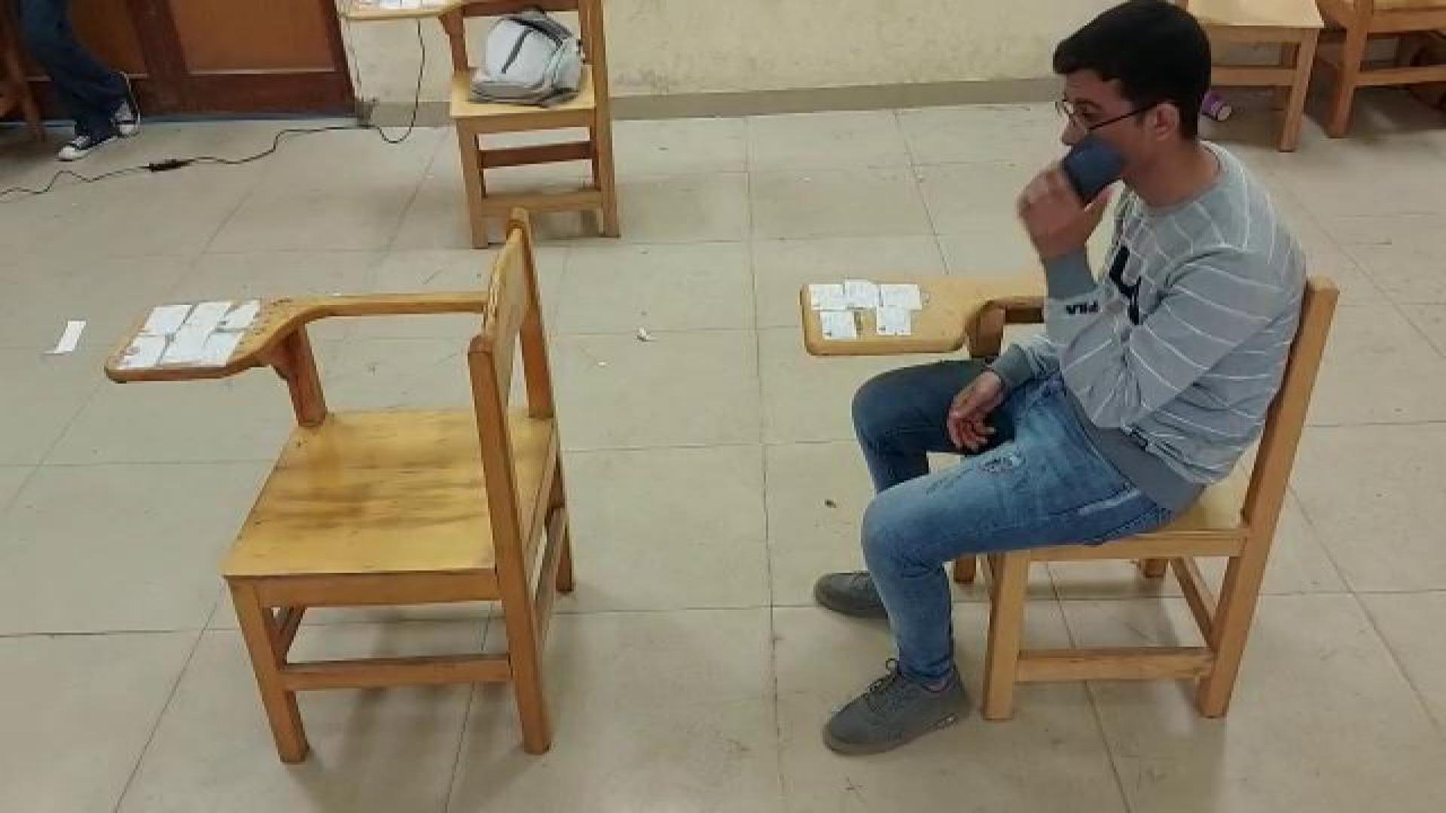phone: (1055, 139, 1139, 201)
